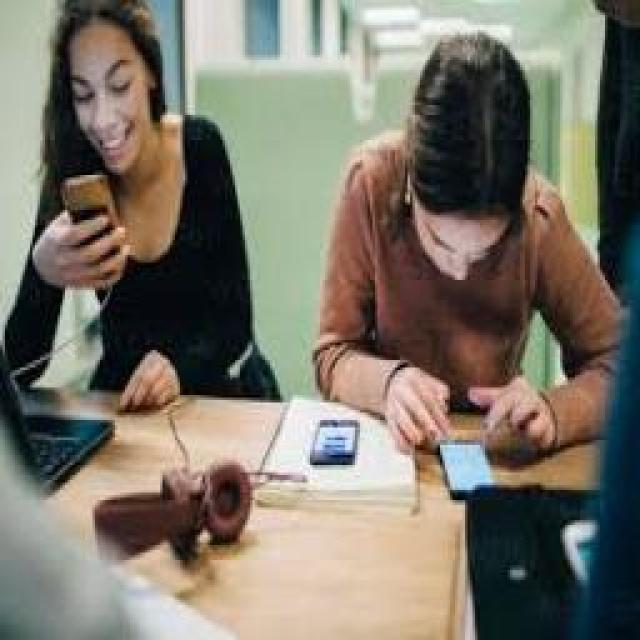phone: (315, 30, 605, 500), (0, 0, 250, 402)
